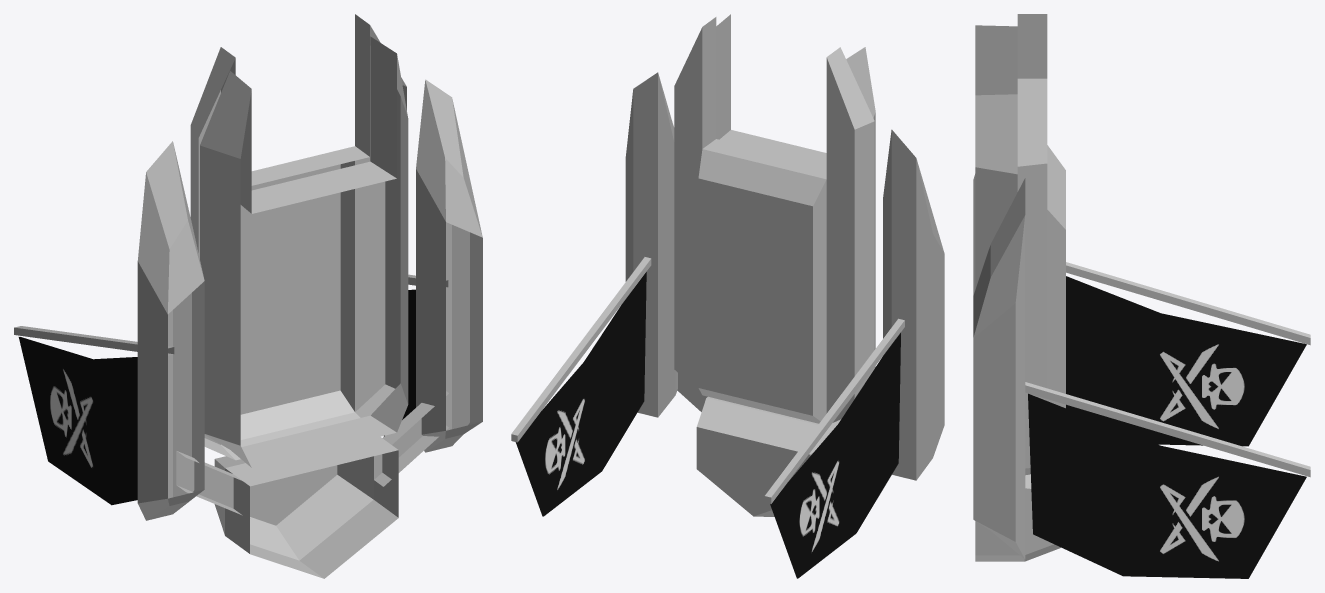
Rendered from gas_my_8_body.fbx.
3 renders of one model, left to right at view 1: azimuth 30°, elevation 25°; view 2: azimuth 150°, elevation 25°; view 3: azimuth 270°, elevation 25°, orthographic. The views are drawn at different scales.
Parts seen in each view (by area): view 1: Cube.426; view 2: Cube.426; view 3: Cube.426.
Part boxes in pixels (x1,y1,x2,y2): Cube.426: [14, 14, 482, 578]; Cube.426: [511, 14, 944, 578]; Cube.426: [973, 14, 1310, 578].
Size of the model in its own units: 394 by 591 by 350.
